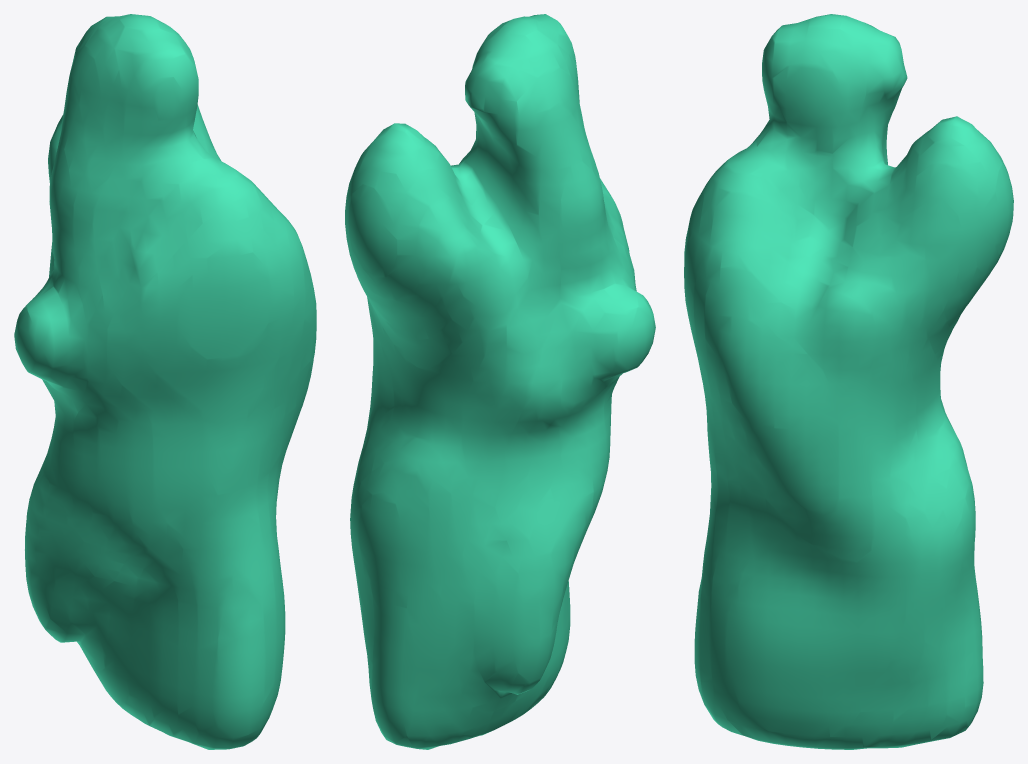
3 views of the same model, side by side, from view 1: azimuth 30°, elevation 25°; view 2: azimuth 150°, elevation 25°; view 3: azimuth 270°, elevation 25° (orthographic). The views are drawn at different scales.
Visible parts, largest first — view 1: Liquid_Domain; view 2: Liquid_Domain; view 3: Liquid_Domain.
Part boxes in pixels (x1=…): Liquid_Domain: x1=14, y1=14, x2=316, y2=749; Liquid_Domain: x1=345, y1=14, x2=655, y2=749; Liquid_Domain: x1=684, y1=14, x2=1013, y2=749.
Bounding box in the file's own units: 2.71 × 6.81 × 2.93.
